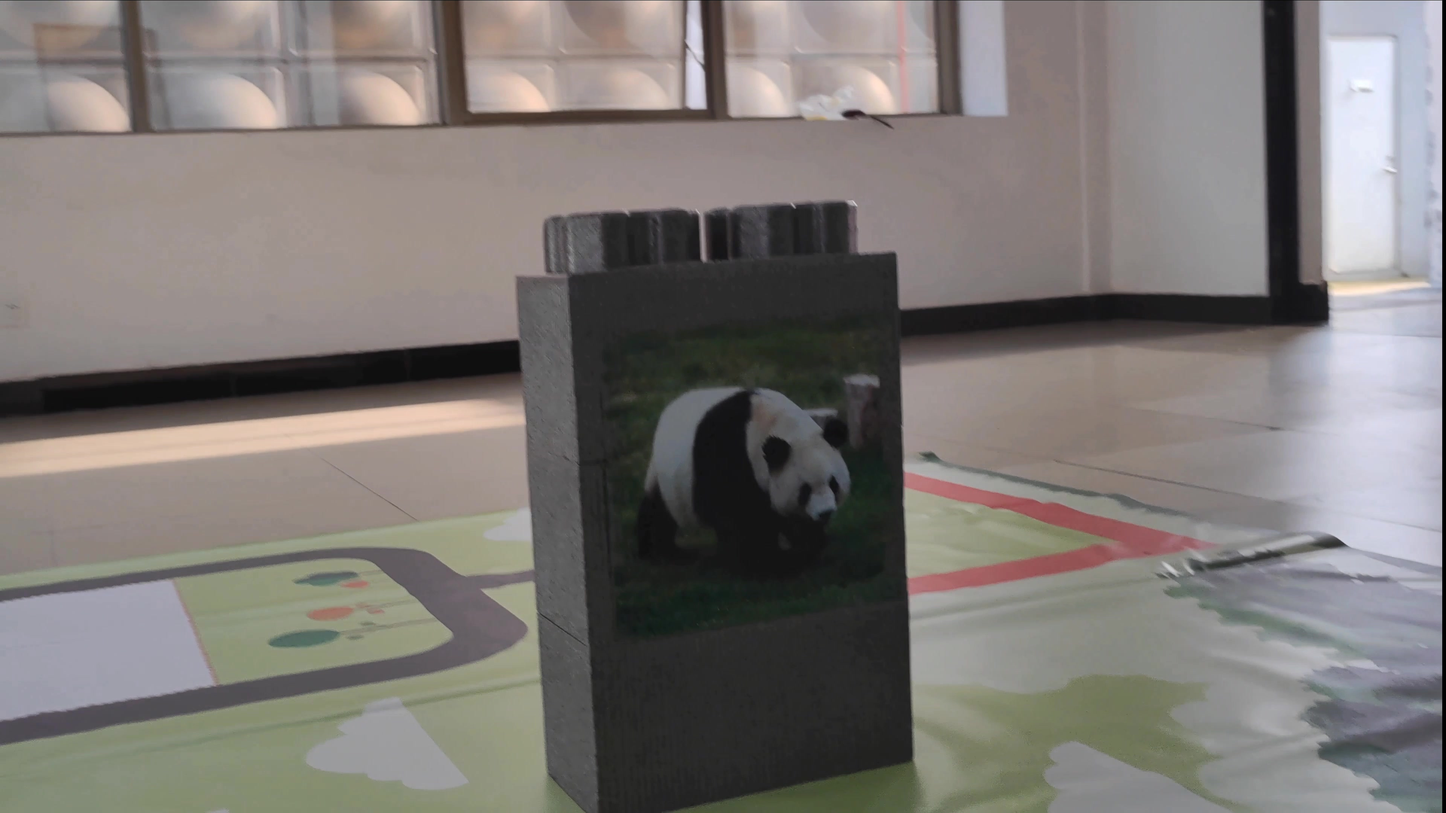panda: (619, 352, 901, 600)
